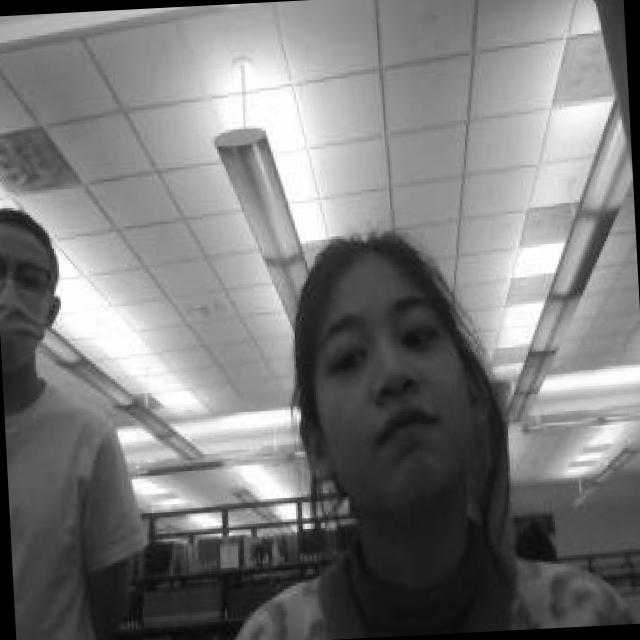Focused: (304, 260, 472, 538)
